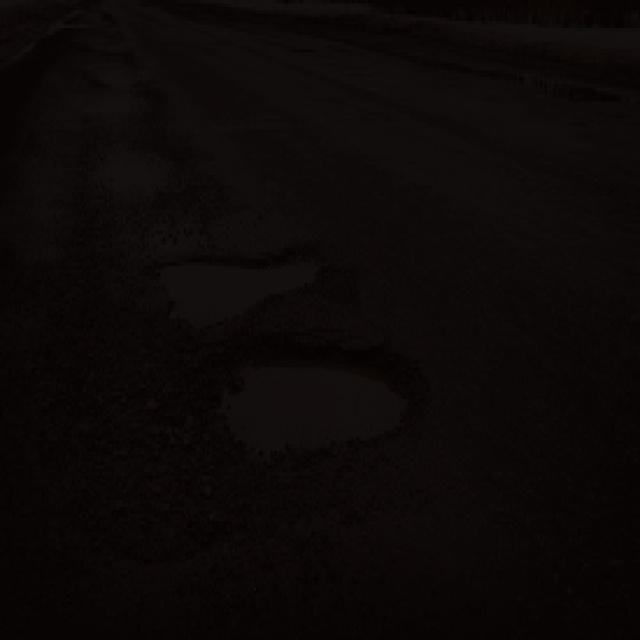Pothole: (211, 333, 437, 471), (148, 244, 338, 332)
